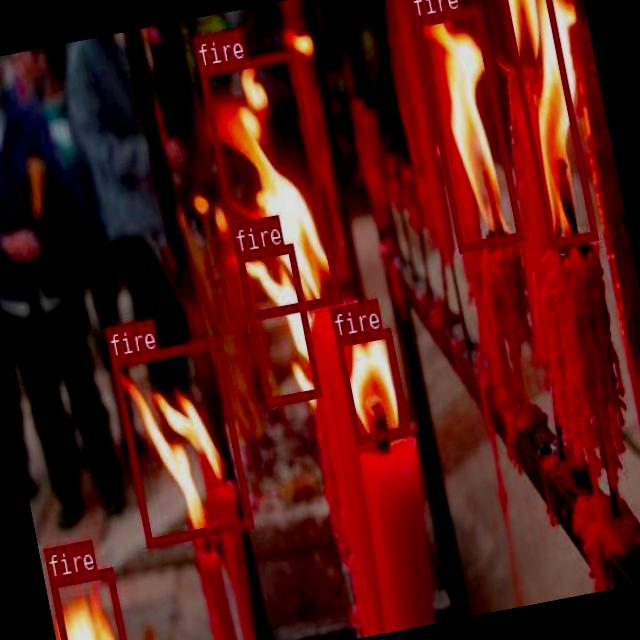fire: (198, 49, 340, 318), (110, 336, 252, 546), (413, 6, 522, 250), (494, 0, 597, 247), (236, 242, 321, 406), (335, 328, 409, 443), (48, 565, 132, 640)
